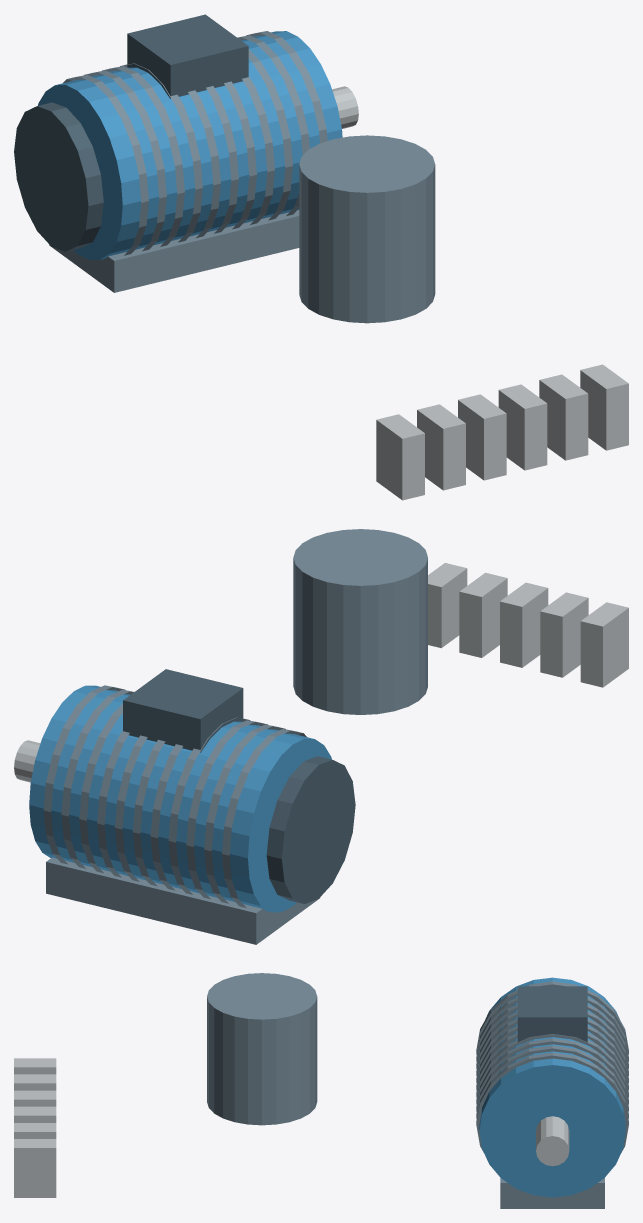
File: 10_L77_BulkPlatenServoDrive.glb
3 renders of one model, top to bottom at view 1: azimuth 30°, elevation 25°; view 2: azimuth 150°, elevation 25°; view 3: azimuth 270°, elevation 25°, orthographic. The views are drawn at different scales.
Visible parts, largest first — view 1: BulkPlatenServoDrive_Node_0000, BulkPlatenServoDrive_Node_0016, BulkPlatenServoDrive_Node_0013, BulkPlatenServoDrive_Node_0014, BulkPlatenServoDrive_Node_0015, BulkPlatenServoDrive_Node_0017, BulkPlatenServoDrive_Node_0020, BulkPlatenServoDrive_Node_0021, BulkPlatenServoDrive_Node_0018, BulkPlatenServoDrive_Node_0019, BulkPlatenServoDrive_Node_0022, BulkPlatenServoDrive_Node_0001 (+11 smaller); view 2: BulkPlatenServoDrive_Node_0000, BulkPlatenServoDrive_Node_0016, BulkPlatenServoDrive_Node_0013, BulkPlatenServoDrive_Node_0014, BulkPlatenServoDrive_Node_0015, BulkPlatenServoDrive_Node_0017, BulkPlatenServoDrive_Node_0018, BulkPlatenServoDrive_Node_0019, BulkPlatenServoDrive_Node_0020, BulkPlatenServoDrive_Node_0021, BulkPlatenServoDrive_Node_0001, BulkPlatenServoDrive_Node_0011 (+10 smaller); view 3: BulkPlatenServoDrive_Node_0000, BulkPlatenServoDrive_Node_0016, BulkPlatenServoDrive_Node_0015, BulkPlatenServoDrive_Node_0022, BulkPlatenServoDrive_Node_0014, BulkPlatenServoDrive_Node_0012, BulkPlatenServoDrive_Node_0011, BulkPlatenServoDrive_Node_0009, BulkPlatenServoDrive_Node_0010, BulkPlatenServoDrive_Node_0008, BulkPlatenServoDrive_Node_0001, BulkPlatenServoDrive_Node_0018 (+10 smaller).
Boxes of the visible parts, x1,y1,x2,y2 form: BulkPlatenServoDrive_Node_0000: (38, 31, 342, 259); BulkPlatenServoDrive_Node_0016: (299, 135, 435, 323); BulkPlatenServoDrive_Node_0013: (14, 102, 103, 251); BulkPlatenServoDrive_Node_0014: (49, 210, 299, 292); BulkPlatenServoDrive_Node_0015: (127, 14, 248, 98); BulkPlatenServoDrive_Node_0017: (376, 414, 424, 500); BulkPlatenServoDrive_Node_0020: (498, 384, 547, 470); BulkPlatenServoDrive_Node_0021: (539, 374, 588, 460); BulkPlatenServoDrive_Node_0018: (417, 404, 465, 490); BulkPlatenServoDrive_Node_0019: (458, 394, 506, 480); BulkPlatenServoDrive_Node_0022: (580, 364, 628, 450); BulkPlatenServoDrive_Node_0001: (63, 75, 148, 255); BulkPlatenServoDrive_Node_0000: (29, 685, 331, 912); BulkPlatenServoDrive_Node_0016: (293, 529, 427, 714); BulkPlatenServoDrive_Node_0013: (266, 756, 355, 903); BulkPlatenServoDrive_Node_0014: (46, 857, 320, 944); BulkPlatenServoDrive_Node_0015: (123, 669, 243, 752); BulkPlatenServoDrive_Node_0017: (580, 602, 628, 687); BulkPlatenServoDrive_Node_0018: (540, 592, 588, 677); BulkPlatenServoDrive_Node_0019: (500, 582, 548, 667); BulkPlatenServoDrive_Node_0020: (459, 572, 507, 657); BulkPlatenServoDrive_Node_0021: (428, 563, 467, 648); BulkPlatenServoDrive_Node_0001: (222, 729, 306, 907); BulkPlatenServoDrive_Node_0011: (43, 685, 125, 864); BulkPlatenServoDrive_Node_0000: (479, 977, 625, 1197); BulkPlatenServoDrive_Node_0016: (207, 973, 317, 1125); BulkPlatenServoDrive_Node_0015: (517, 986, 587, 1042); BulkPlatenServoDrive_Node_0022: (14, 1139, 56, 1197); BulkPlatenServoDrive_Node_0014: (500, 1178, 604, 1208); BulkPlatenServoDrive_Node_0012: (536, 1116, 569, 1166); BulkPlatenServoDrive_Node_0011: (476, 1052, 628, 1152); BulkPlatenServoDrive_Node_0009: (476, 1038, 628, 1111); BulkPlatenServoDrive_Node_0010: (476, 1045, 628, 1118); BulkPlatenServoDrive_Node_0008: (476, 1034, 628, 1104); BulkPlatenServoDrive_Node_0001: (476, 981, 628, 1054); BulkPlatenServoDrive_Node_0018: (14, 1074, 56, 1090).
Bounding box in the file's own units: 1.31 × 0.8875 × 2.9.
